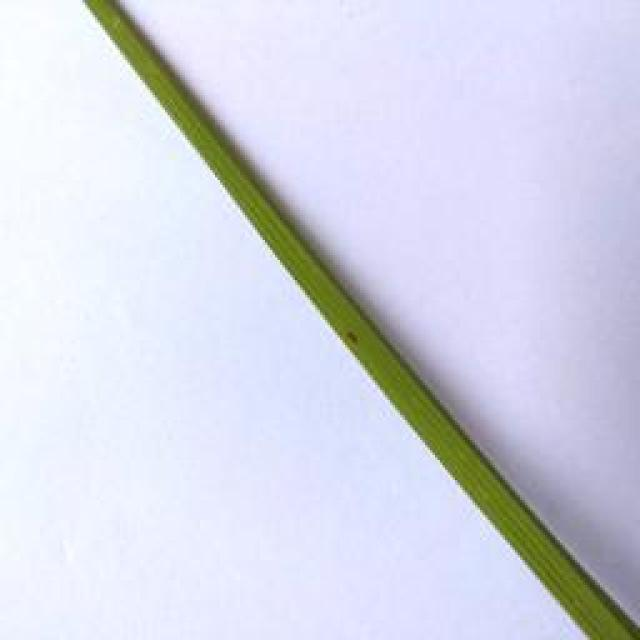Brown_Spot: (339, 324, 367, 351)
